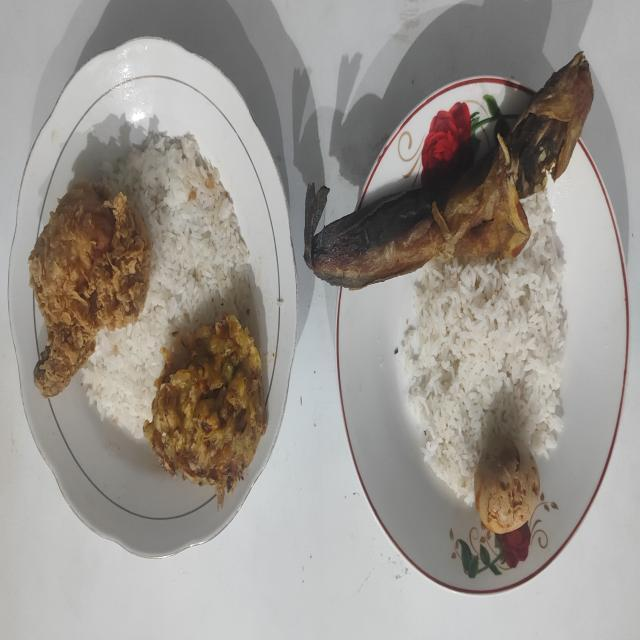nasi_putih: (82, 131, 259, 438), (400, 189, 568, 502)
